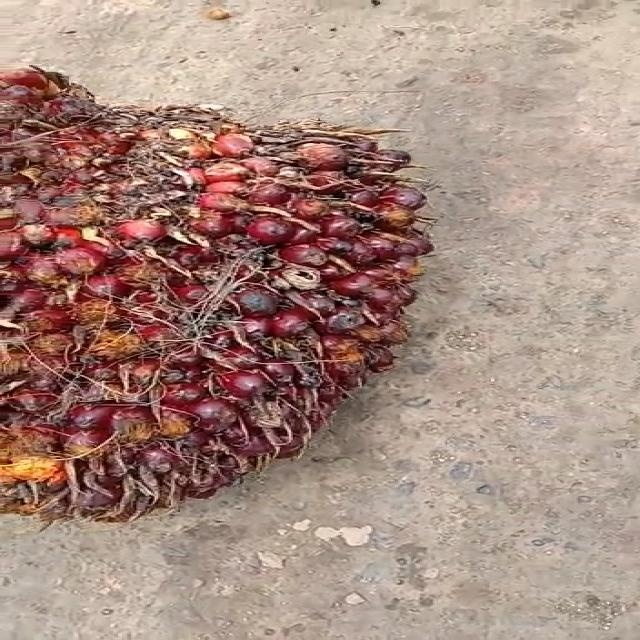palm oil: (2, 55, 456, 532)
